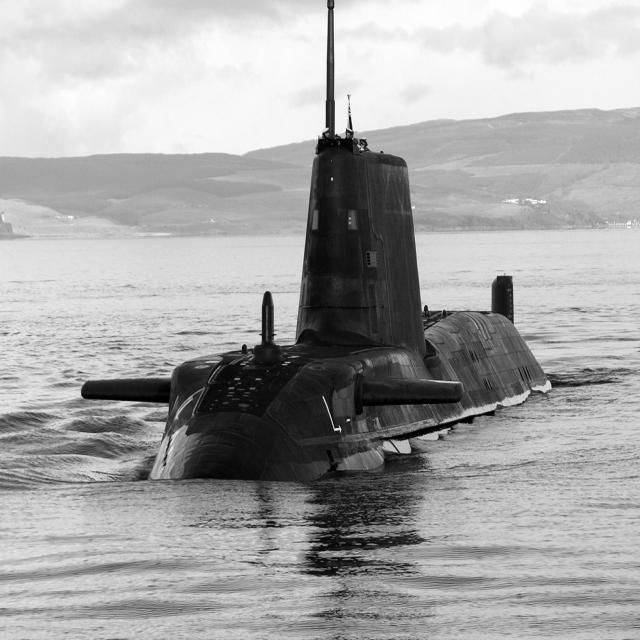submarine: (77, 1, 564, 491)
